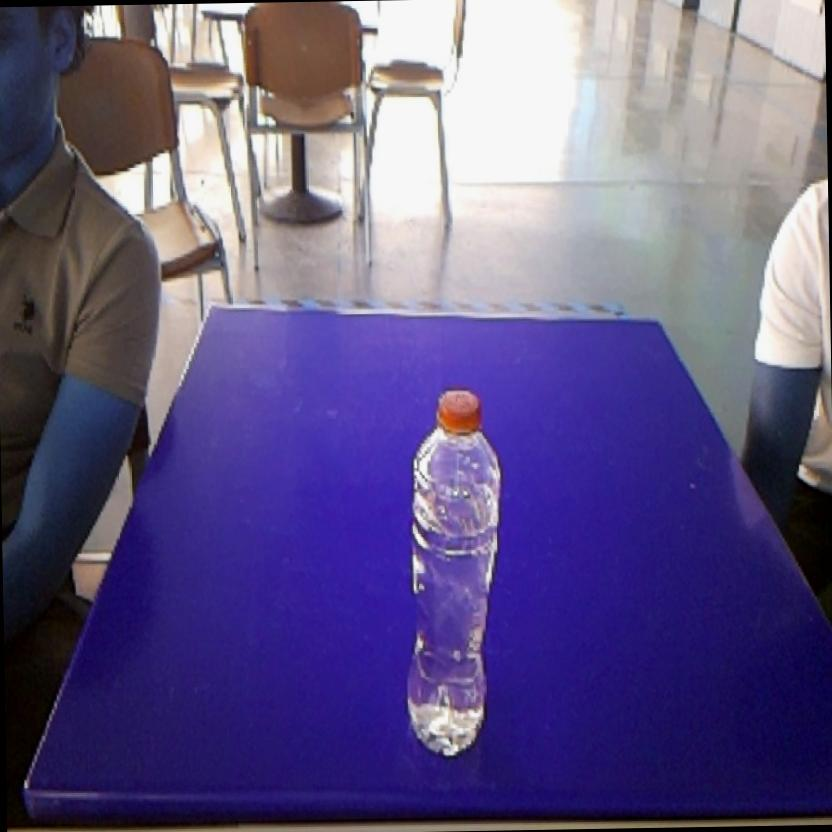no_label: (393, 381, 513, 766)
